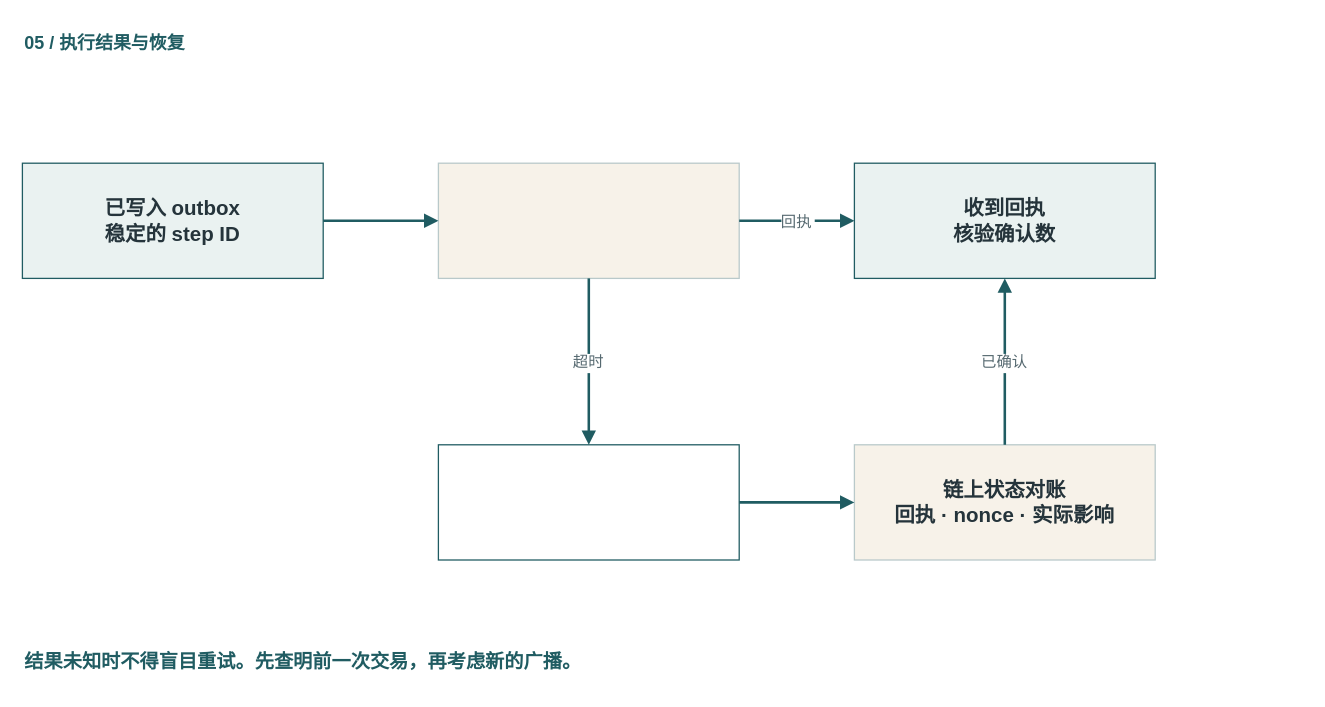
The diagram is 1325 pixels wide and 707 high, and some of its shapes have lost their labels. The centre of each missing label's shape, as x and y in pixels:
已提交交易 保存交易 hash: point (588, 220)
结果未知 超时 / RPC 不可用: point (588, 502)
